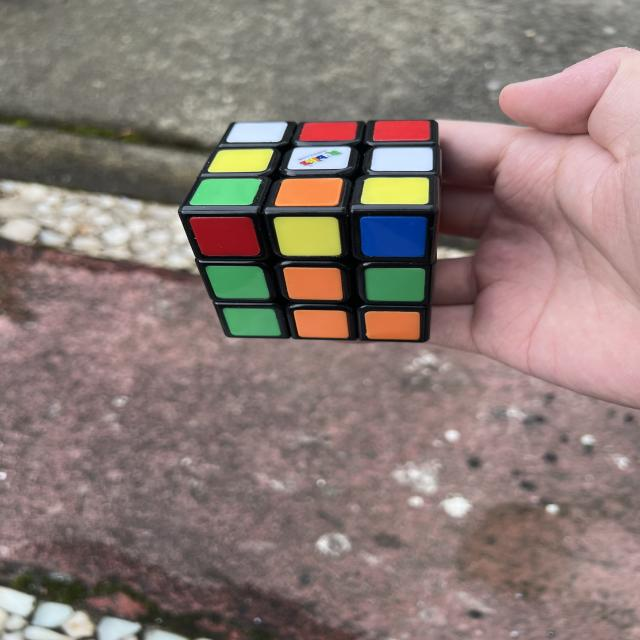blue: (359, 216, 427, 258)
center: (282, 266, 344, 301), (286, 146, 351, 171)
green: (205, 265, 270, 300), (364, 267, 426, 302), (190, 178, 262, 205), (222, 307, 282, 337)
orange: (274, 178, 343, 207), (364, 310, 421, 341), (292, 309, 350, 339)
red: (189, 217, 260, 257), (373, 120, 430, 142), (299, 122, 358, 142)
white: (370, 147, 433, 172), (225, 122, 288, 145)
yellow: (273, 216, 341, 257), (360, 177, 430, 204), (207, 148, 274, 173)
